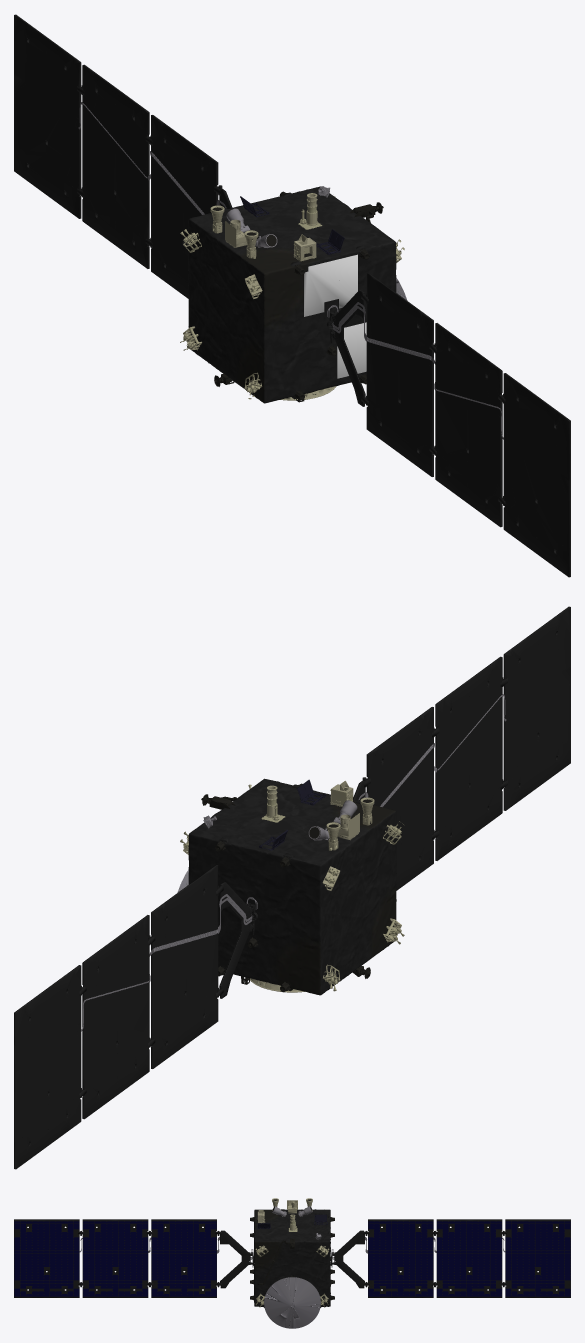
File: hera.glb
3 views of the same model, one above another, from view 1: azimuth 30°, elevation 25°; view 2: azimuth 150°, elevation 25°; view 3: azimuth 270°, elevation 25° (orthographic). The views are drawn at different scales.
Visible parts, largest first — view 1: 3DSMesh_0; view 2: 3DSMesh_0; view 3: 3DSMesh_0.
Boxes of the visible parts, x1,y1,x2,y2 form: 3DSMesh_0: (14, 14, 570, 577); 3DSMesh_0: (14, 606, 570, 1169); 3DSMesh_0: (14, 1198, 570, 1328).
Bounding box in the file's own units: 2.15 × 2.16 × 11.45.
1 material, 1 textured.
